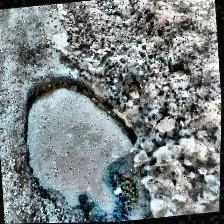pothole: (18, 67, 148, 224)
